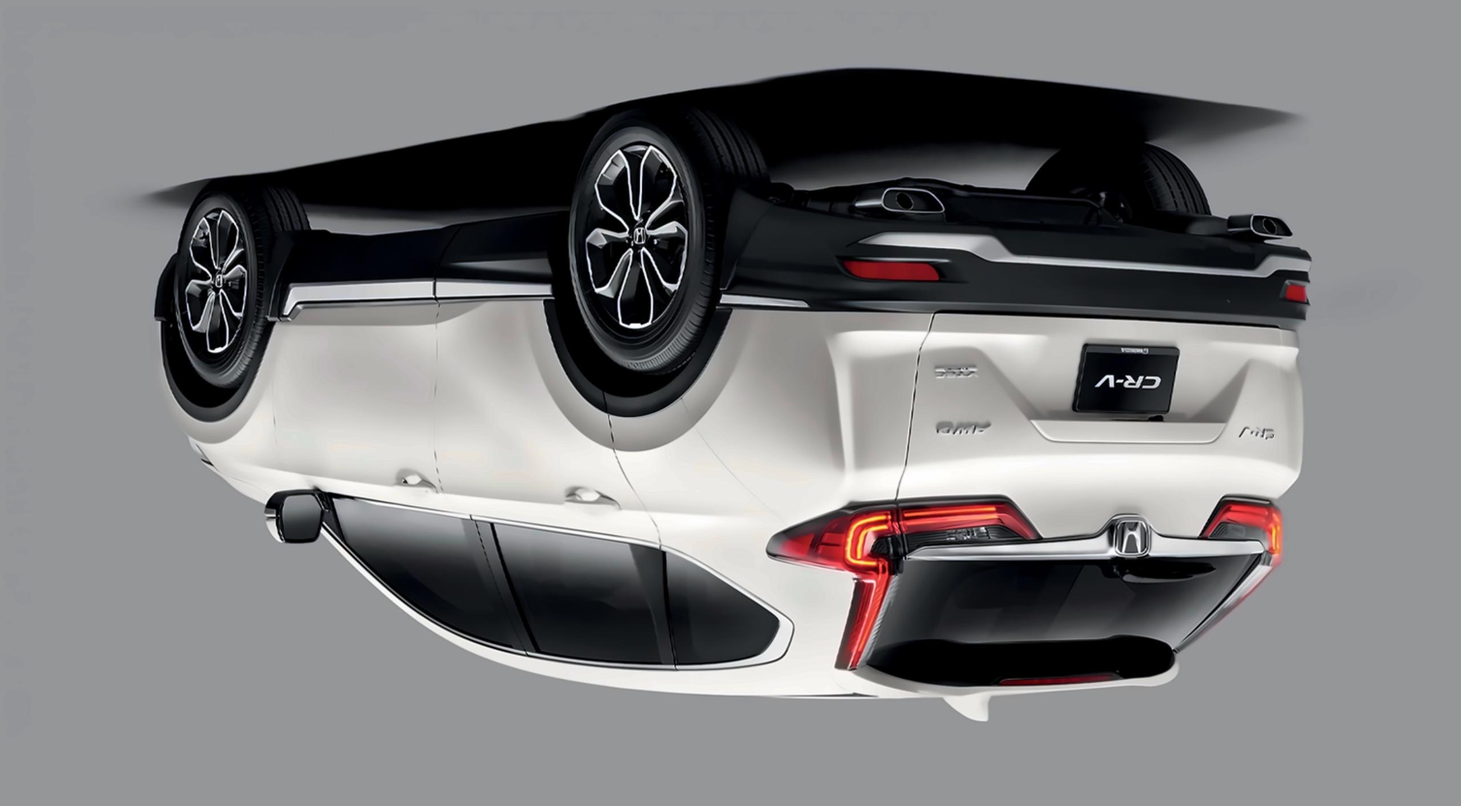Car boot: (878, 296, 1333, 709)
Driver-s door - -F-R-: (266, 261, 544, 689)
Fender - -F-R-: (140, 281, 300, 525)
Fender - -R-R-: (602, 288, 962, 705)
Passenger-s door - -R-R-: (420, 251, 692, 713)
Rear bumper: (726, 186, 1319, 344)
Rear light - -L-: (1199, 492, 1285, 575)
Rear light - -R-: (768, 492, 1047, 669)
Side bumper - -R-: (240, 240, 576, 353)
Side mirror - -R-: (258, 484, 328, 561)
